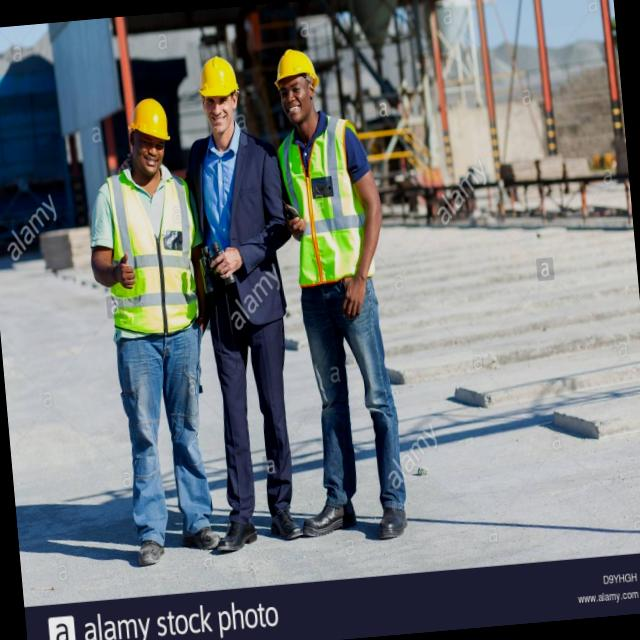helmet: (121, 90, 176, 154), (191, 54, 243, 106), (269, 44, 320, 93)
no-vest: (192, 131, 284, 352)
vest: (99, 166, 197, 344), (279, 120, 377, 297)
